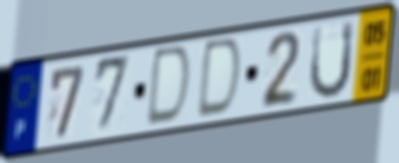2: (261, 30, 302, 112)
7: (92, 52, 134, 137), (49, 62, 86, 142)
D: (194, 35, 245, 122), (143, 43, 194, 130)
U: (307, 17, 357, 103)
